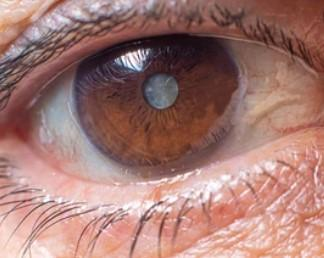eye: (75, 39, 240, 175)
